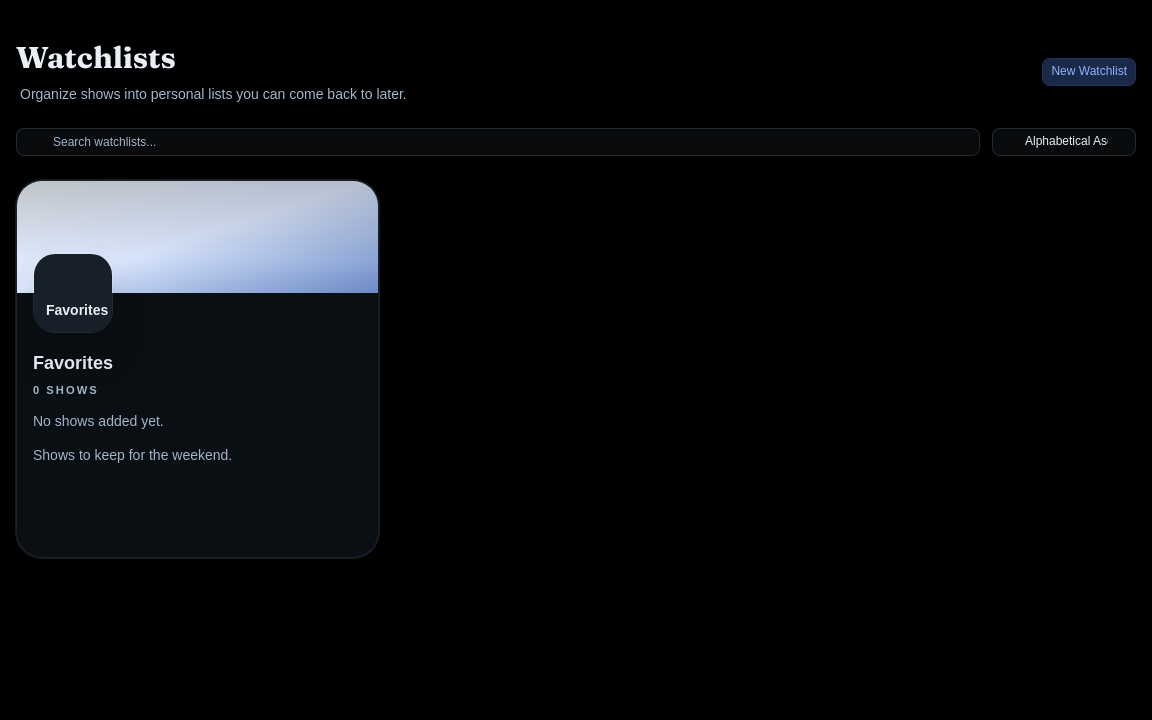
/watchlists page › shows the no-results state when search has no matches
Type "anime" into the field with placeholder "Search watchlists..." at x=498, y=142, box [16,128,980,156]
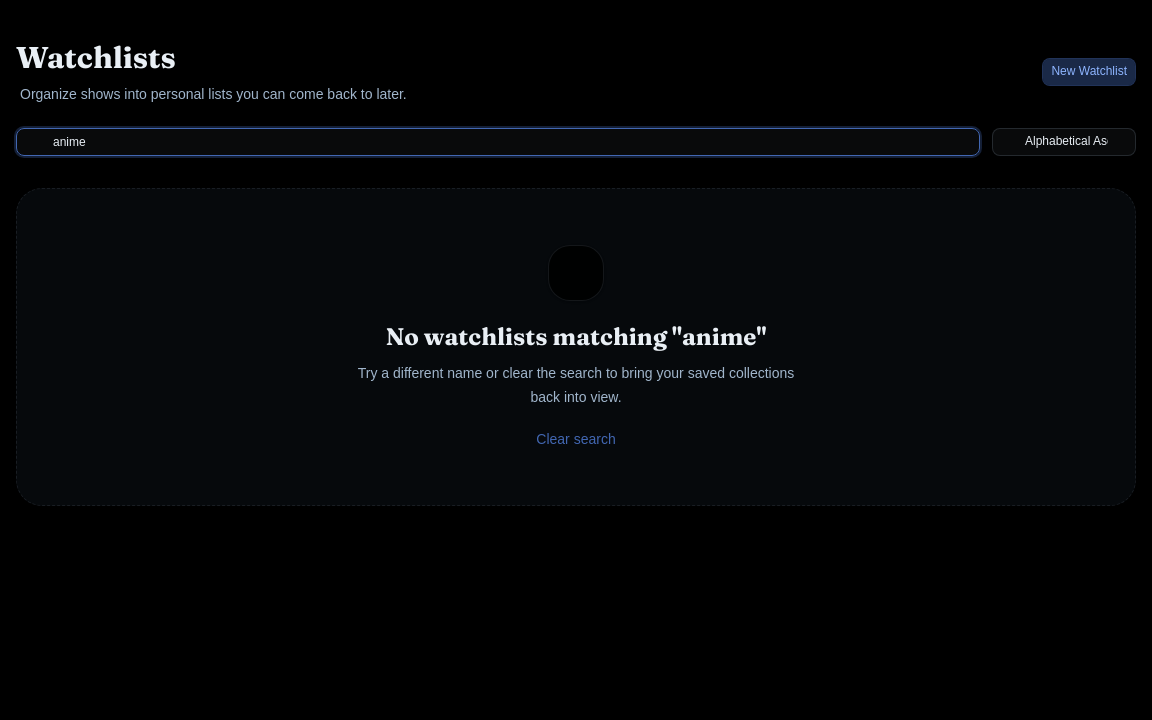
Expected: the heading "No watchlists matching \"anime\"" is shown, [386,322,766,351]
Expected: the button "Clear search" is shown
Click the button "Clear search" at x=576, y=439, box [536,429,616,449]
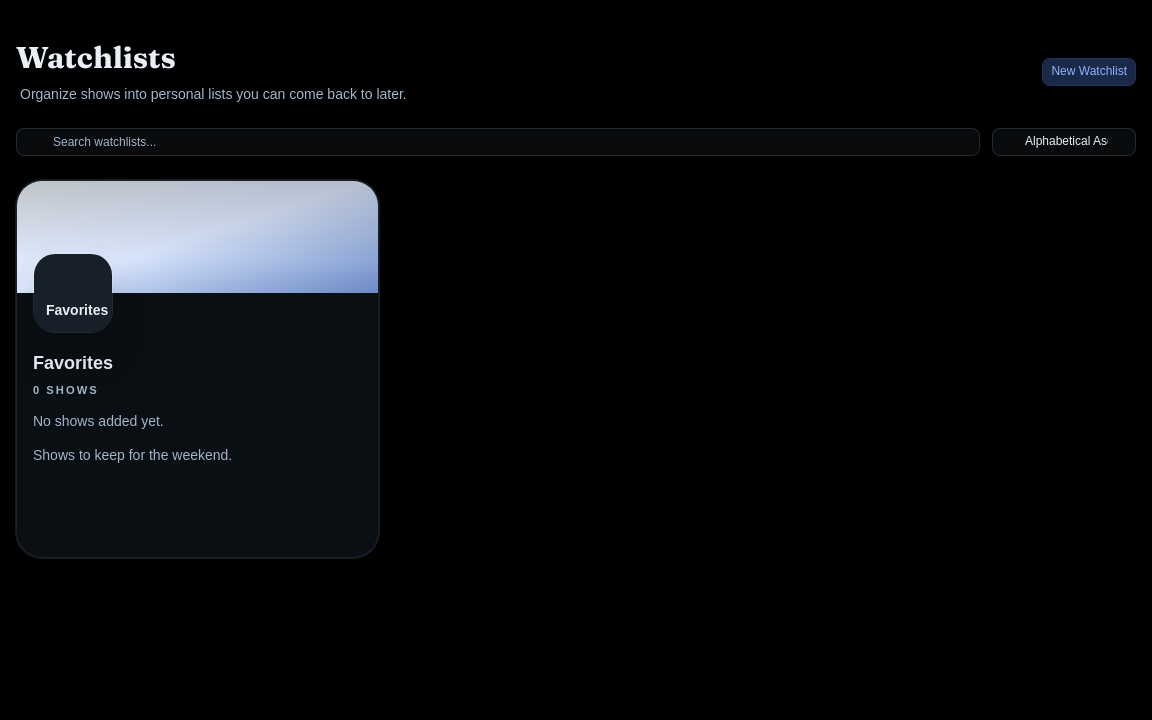
Expected: the heading "No watchlists matching \"anime\"" is gone
